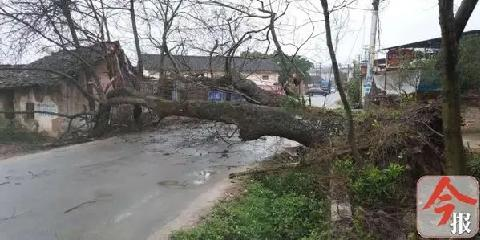Downstairs: (1, 1, 424, 164)
